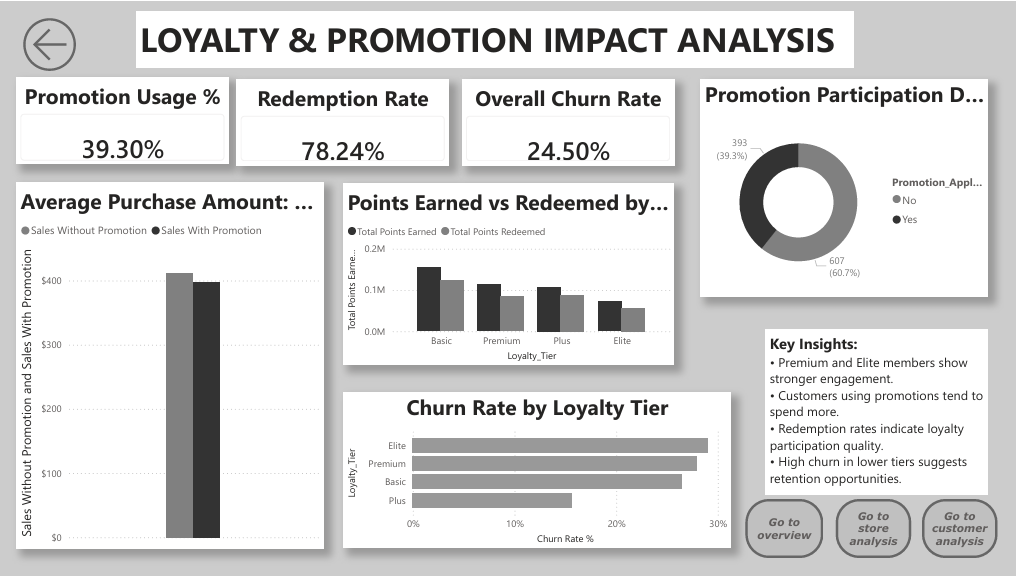

The page's visual inventory and layout, read from the dashboard file:
{"tool":"powerbi","page":{"name":"Loyalty & Promotion Impact","canvas":[1280,720],"ordinal":1},"visuals":[{"type":"textbox","box":[171.6,13.4,908.7,71.6],"z":0},{"type":"cardVisual","title":"Promotion Usage %","fields":{"Data":["Measures_Table.Promotion Usage %"]},"box":[20.9,97,268.6,110.4],"z":1000},{"type":"cardVisual","title":"Redemption Rate","fields":{"Data":["Measures_Table.Redemption Rate %"]},"box":[299.9,98.5,268.6,108.9],"z":2000},{"type":"cardVisual","title":"Overall Churn Rate","fields":{"Data":["Measures_Table.Churn Rate %"]},"box":[584.9,98.5,268.6,108.9],"z":3000},{"type":"clusteredColumnChart","title":"Average Purchase Amount: Promotion vs No Promotion","fields":{"Y":["Measures_Table.Sales Without Promotion","Measures_Table.Sales With Promotion"]},"box":[20.2,229,388.8,463.7],"z":4000},{"type":"clusteredBarChart","title":"Churn Rate by Loyalty Tier","fields":{"Y":["Measures_Table.Churn Rate %"],"Category":["Loyalty_Program.Loyalty_Tier"]},"box":[434.9,495.4,491.1,197.3],"z":5000},{"type":"clusteredColumnChart","title":"Points Earned vs Redeemed by Loyalty Tier","fields":{"Category":["Loyalty_Program.Loyalty_Tier"],"Y":["Measures_Table.Total Points Earned","Measures_Table.Total Points Redeemed"]},"box":[434.9,230.4,419.1,230.4],"z":6000},{"type":"donutChart","title":"Promotion Participation Distribution","fields":{"Category":["Customer_Transactions.Promotion_Applied"],"Y":["Measures_Table.Total Transactions"]},"box":[886.4,98.5,364.1,274.6],"z":7000},{"type":"textbox","box":[968.4,414.8,282,208.9],"z":8000},{"type":"actionButton","box":[943.1,629.7,98.5,74.6],"z":9000},{"type":"actionButton","box":[1058,629.7,95.5,74.6],"z":10000},{"type":"actionButton","box":[1166.9,629.7,95.5,74.6],"z":11000},{"type":"actionButton","box":[20.9,13.4,103,83.6],"z":12000}]}

Visuals, with their boxes in screenshot pixels (x1, y1, x2, y2), scaled from the page's 1280x720 canvas onto the 1016x576 screenshot:
textbox: (136,11,857,68)
"Promotion Usage %" cardVisual: (17,78,230,166)
"Redemption Rate" cardVisual: (238,79,451,166)
"Overall Churn Rate" cardVisual: (464,79,677,166)
"Average Purchase Amount: Promotion vs No Promotion" clusteredColumnChart: (16,183,325,554)
"Churn Rate by Loyalty Tier" clusteredBarChart: (345,396,735,554)
"Points Earned vs Redeemed by Loyalty Tier" clusteredColumnChart: (345,184,678,369)
"Promotion Participation Distribution" donutChart: (704,79,993,298)
textbox: (769,332,993,499)
actionButton: (749,504,827,563)
actionButton: (840,504,916,563)
actionButton: (926,504,1002,563)
actionButton: (17,11,98,78)
